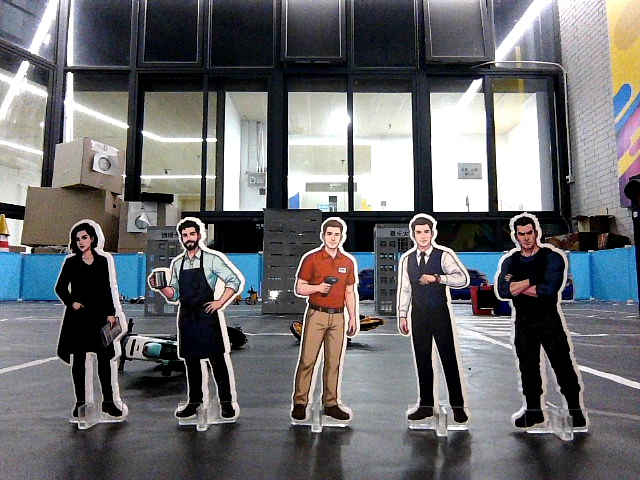community_person: (147, 210, 252, 436), (388, 203, 477, 443), (49, 208, 137, 437), (287, 206, 366, 439)
outsider: (491, 207, 602, 445)
